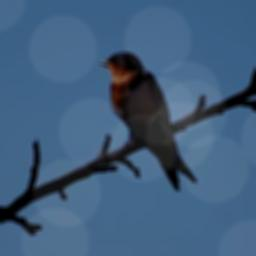Swallow: (99, 50, 197, 190)
